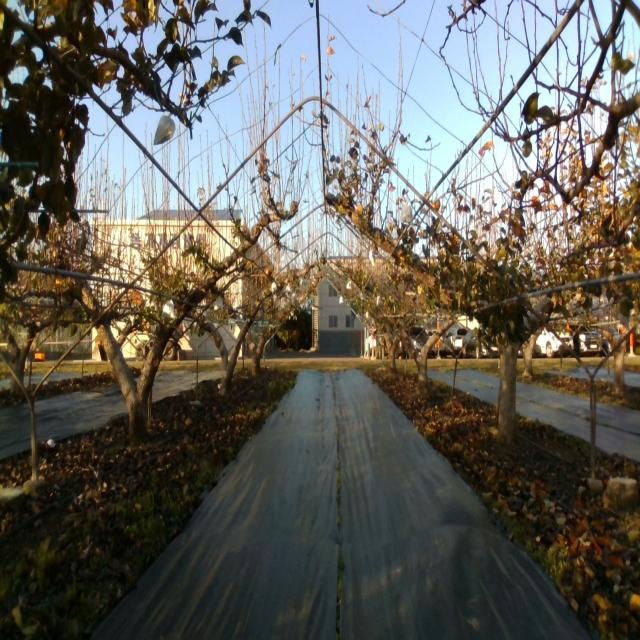pearbags: (154, 116, 176, 146), (161, 299, 176, 320), (400, 205, 412, 225)
